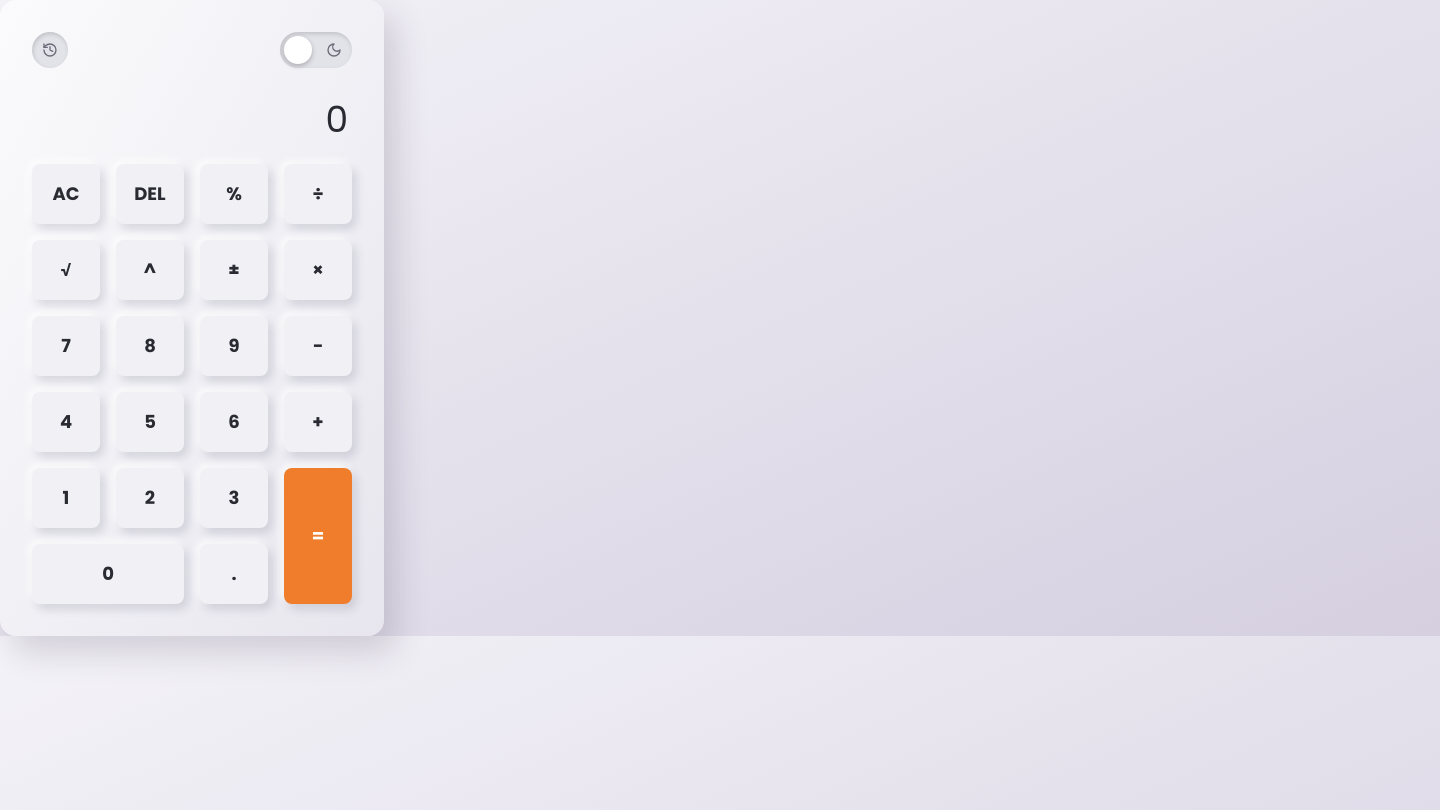
Calculator › chains operations left to right through the backend
The width and height of the screenshot is (1440, 810).
Click the button "2": (150, 498) [116,468,184,528]
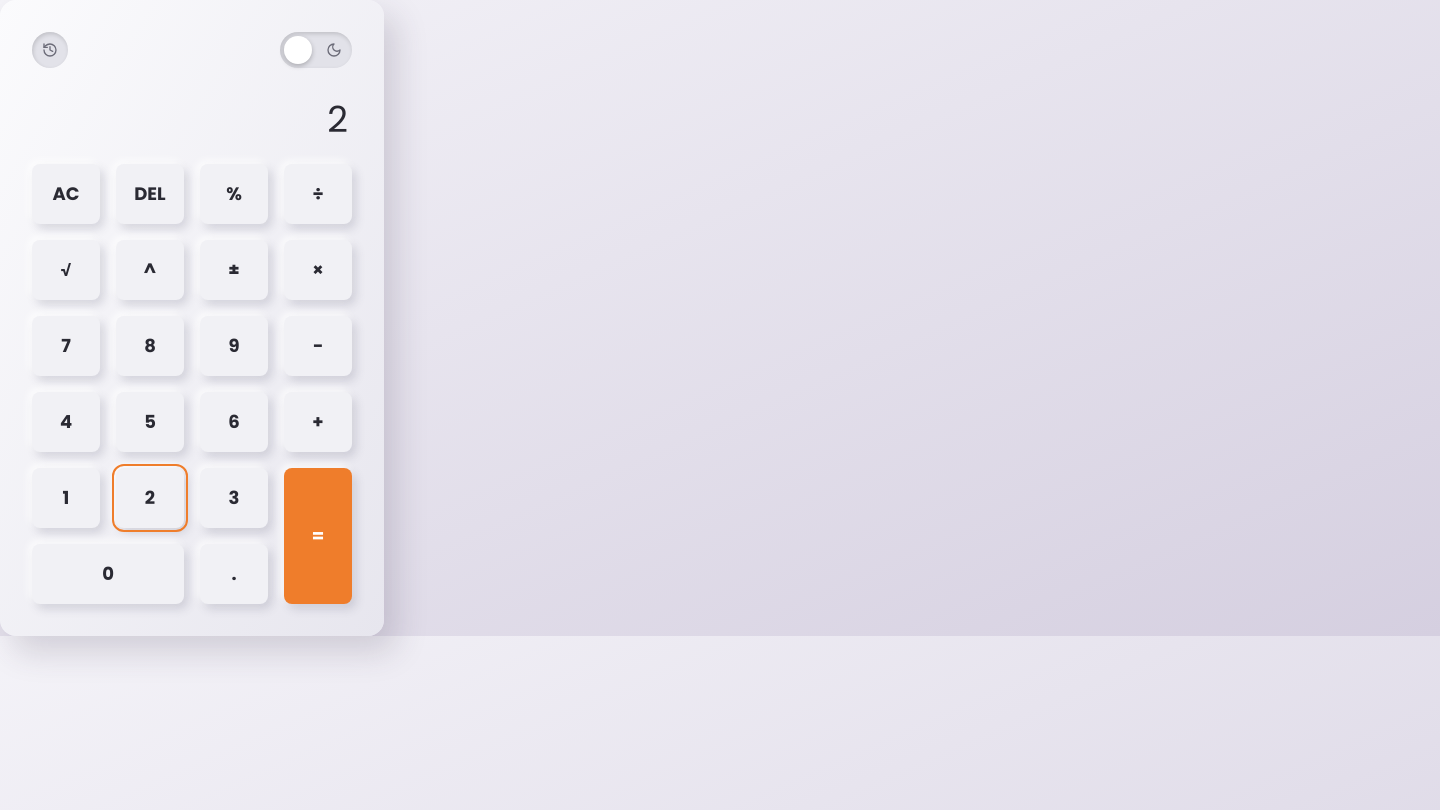
Click the button named "Add": (318, 422) [284,392,352,452]
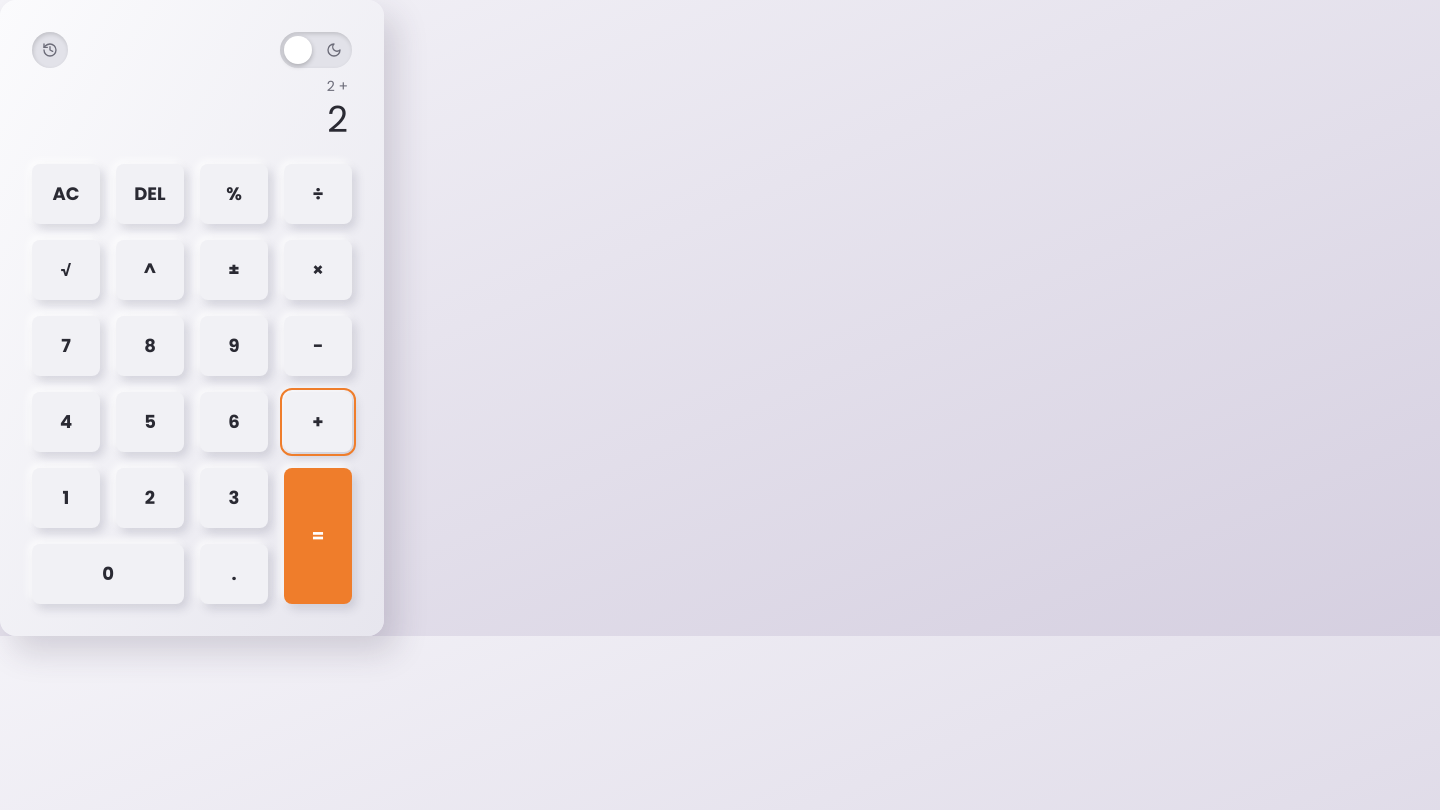
Click the button "3": (234, 498) [200,468,268,528]
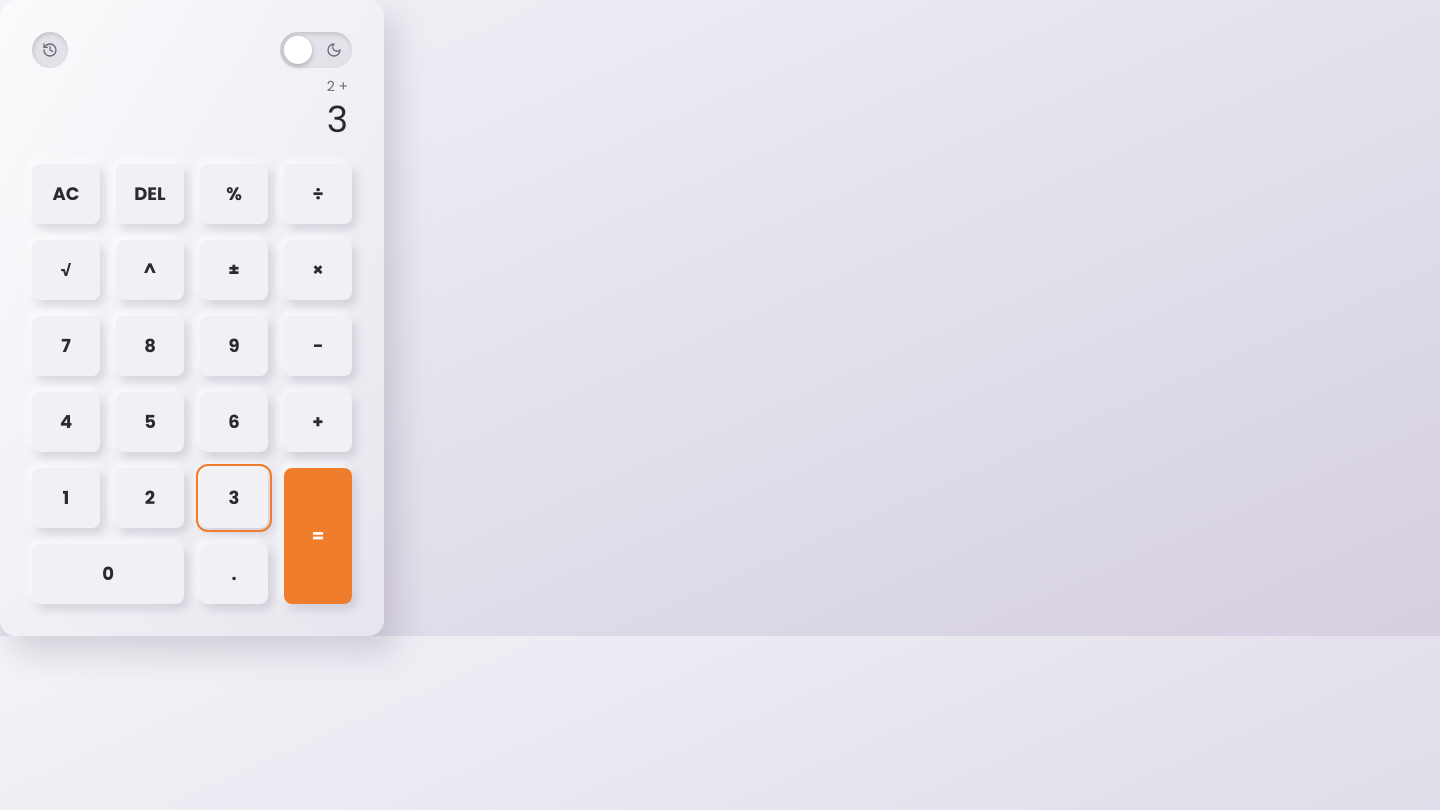
Click the button named "Multiply": (318, 270) [284,240,352,300]
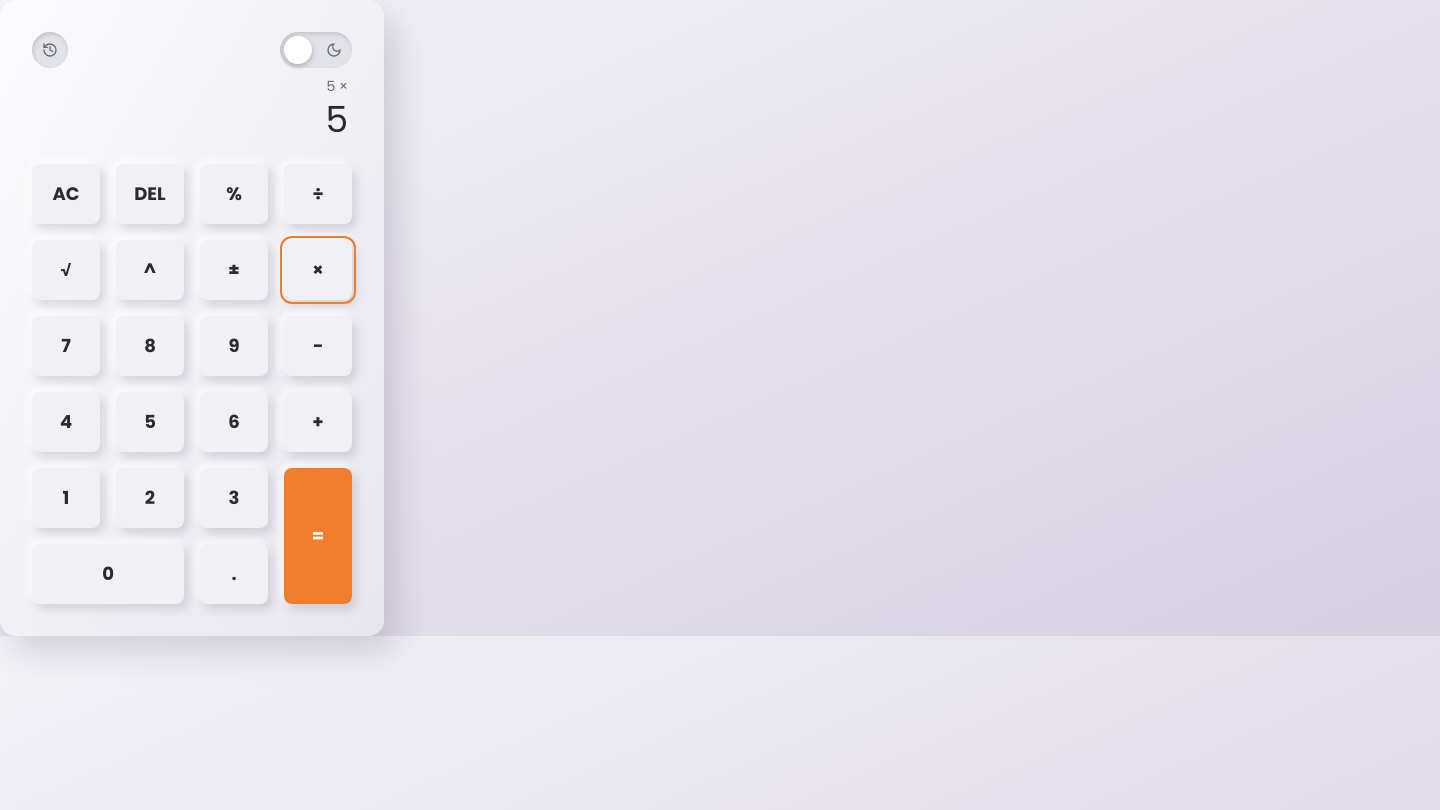
Expected: the text "5" is shown, [325,100,348,140]
Expected: the element named "Result" shows "5 ×", [326,76,348,96]
Click the button "4": (66, 422) [32,392,100,452]
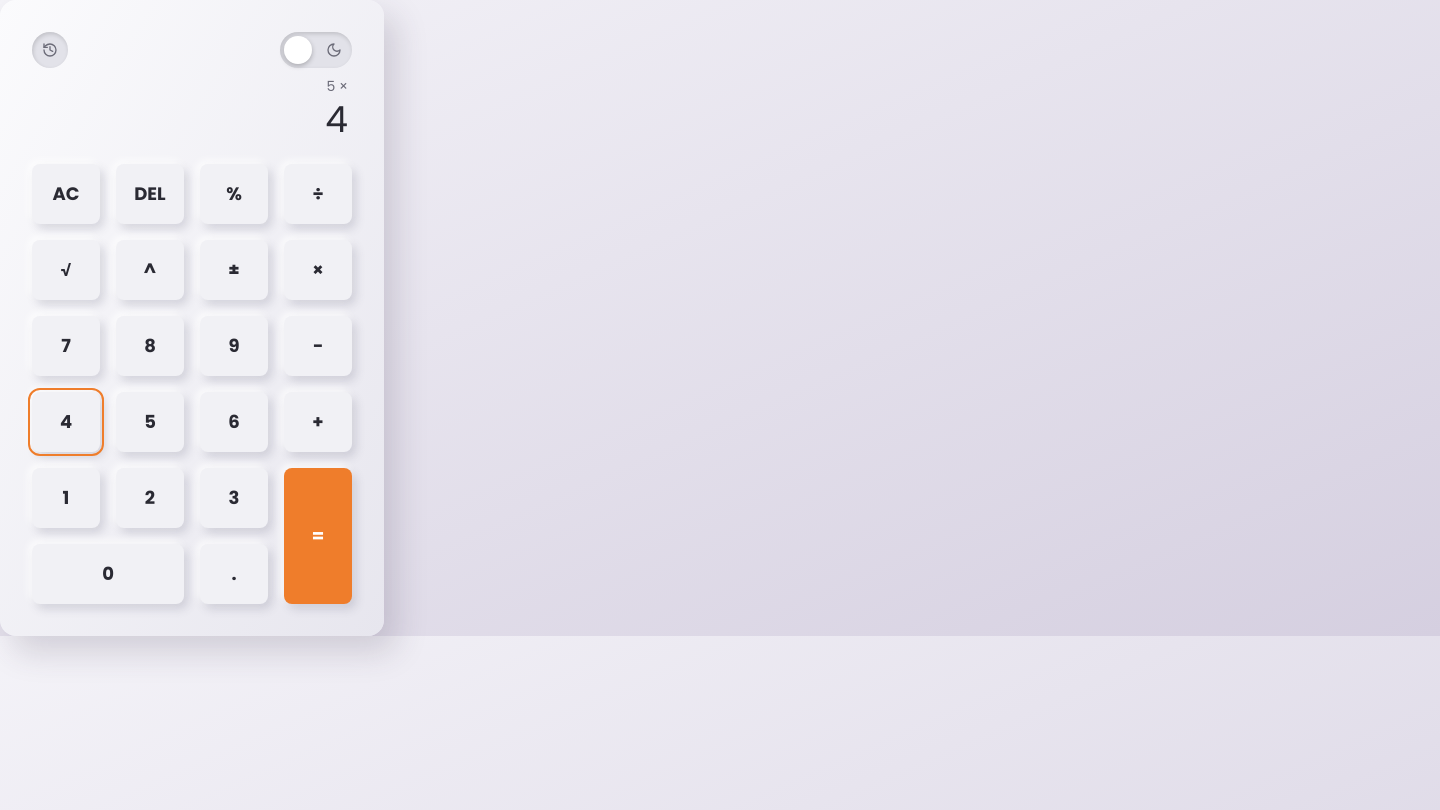
Click the button named "Equals": (318, 536) [284,468,352,604]
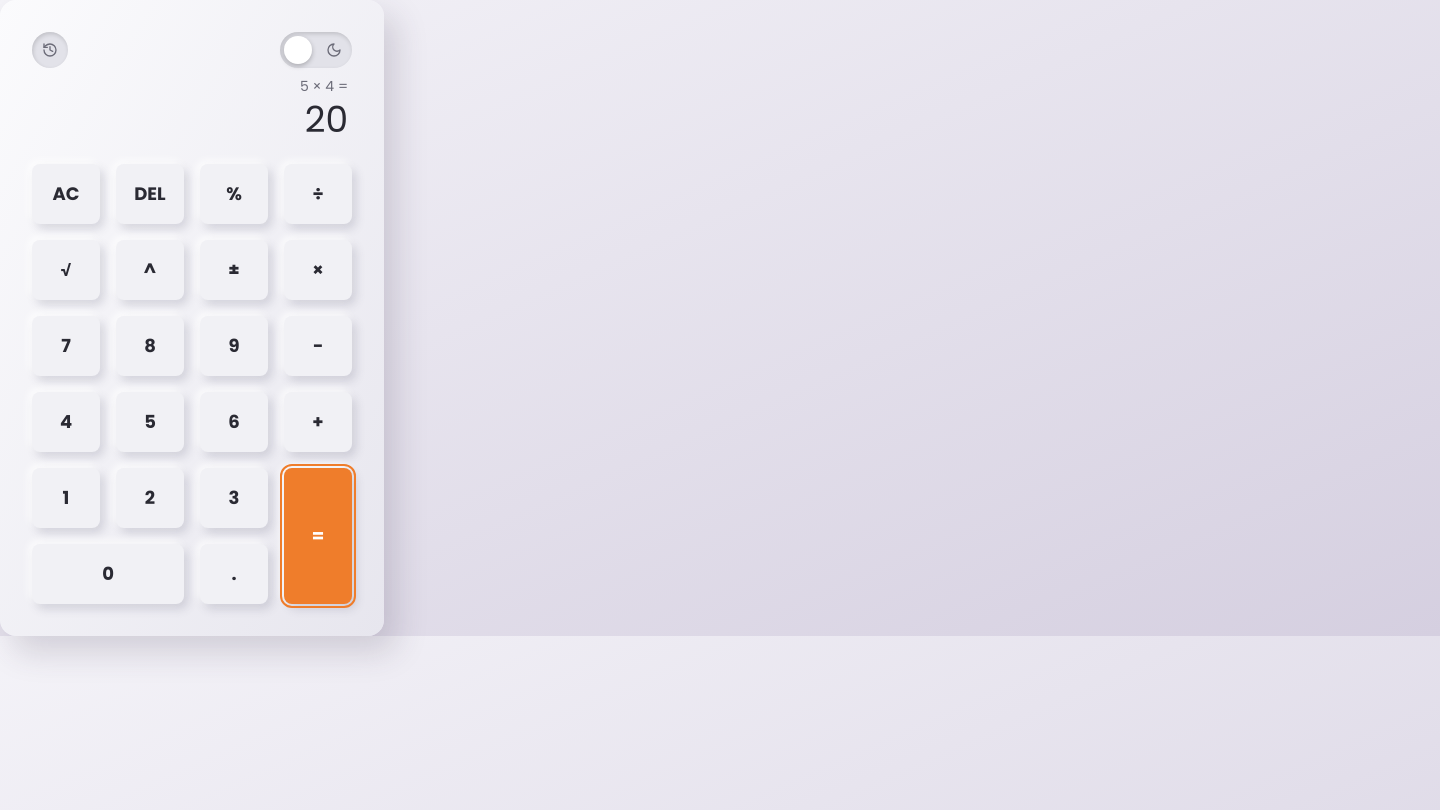
Expected: the text "20" is shown, [305,100,348,140]
